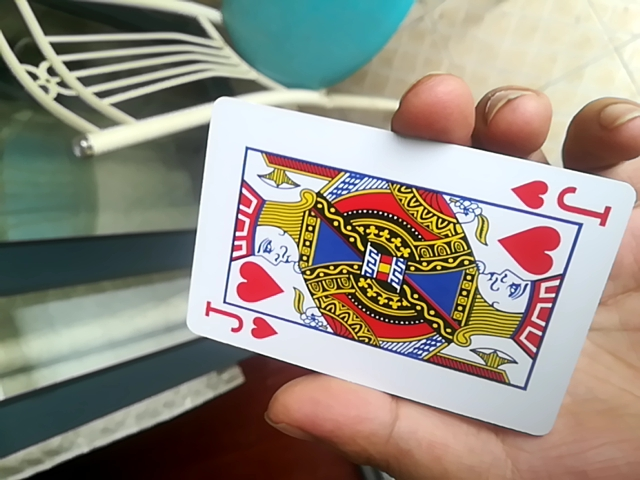hx j: (180, 100, 636, 433)
